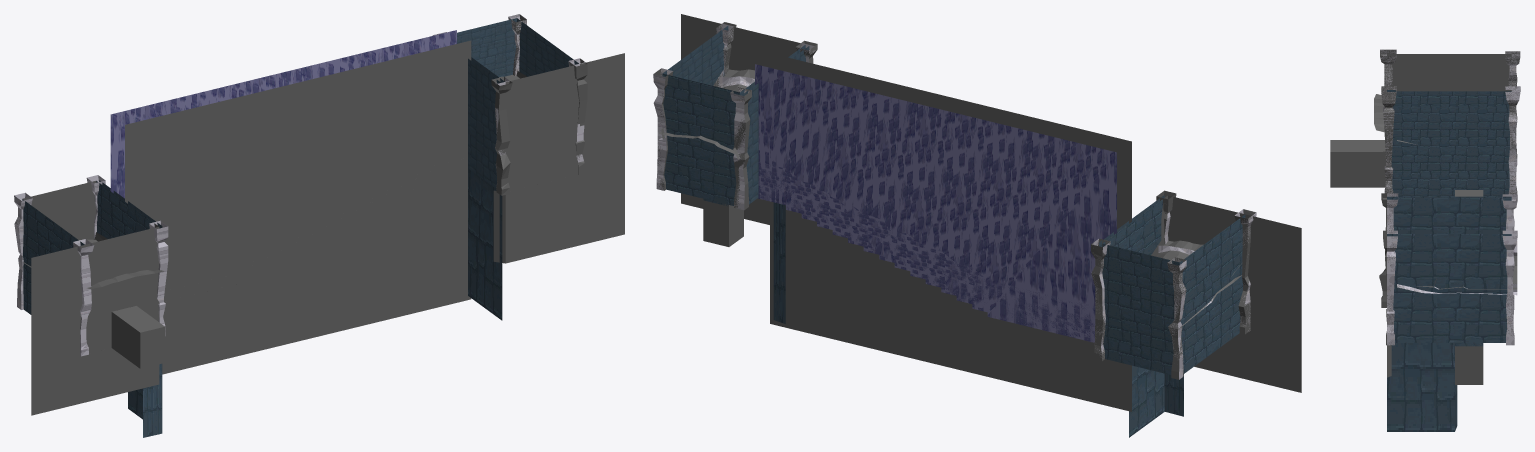
The model's file is jin_11_bake.dae.
The picture shows the model from 3 angles, left to right: view 1: azimuth 30°, elevation 25°; view 2: azimuth 150°, elevation 25°; view 3: azimuth 270°, elevation 25°; orthographic projection. The views are drawn at different scales.
Parts seen in each view (by area): view 1: a_gawa03, S_msk_s, S_kai_part0, S_msk_r, a_yuka, S_msk_l, a_gawa06_part1, polySurface883, a_gawa02, S_kabe_l, a_gawa06_part0, S_hasi_l (+4 smaller); view 2: a_gawa02, S_kai_part0, S_kabe_l, S_msk_l, pPlane9, S_kabe_r, a_gawa03, a_hashira, a_gawa06_part1, polySurface883, polySurface880, a_yuka (+7 smaller); view 3: S_kabe_r, polySurface880, a_yuka, polySurface883, S_hasi_r, a_hashira, S_hasi_l, a_gawa06_part1, a_hashira02, a_hari01, S_hari_r, a_hari02 (+1 smaller).
Part boxes in pixels (bbox=[...]): a_gawa03: bbox=[125, 40, 471, 301]; S_msk_s: bbox=[131, 63, 467, 291]; S_kai_part0: bbox=[162, 171, 471, 374]; S_msk_r: bbox=[493, 53, 624, 263]; a_yuka: bbox=[22, 180, 164, 368]; S_msk_l: bbox=[31, 245, 159, 415]; a_gawa06_part1: bbox=[505, 65, 579, 190]; polySurface883: bbox=[468, 58, 502, 320]; a_gawa02: bbox=[110, 30, 456, 198]; S_kabe_l: bbox=[22, 181, 154, 314]; a_gawa06_part0: bbox=[457, 18, 578, 82]; S_hasi_l: bbox=[14, 175, 168, 356]; a_gawa02: bbox=[755, 64, 1116, 341]; S_kai_part0: bbox=[770, 201, 1131, 411]; S_kabe_l: bbox=[1102, 199, 1245, 374]; S_msk_l: bbox=[1194, 214, 1301, 392]; pPlane9: bbox=[758, 162, 1095, 342]; S_kabe_r: bbox=[662, 73, 739, 205]; a_gawa03: bbox=[770, 53, 1131, 273]; a_hashira: bbox=[1091, 190, 1255, 379]; a_gawa06_part1: bbox=[703, 27, 800, 246]; polySurface883: bbox=[743, 46, 809, 323]; polySurface880: bbox=[1099, 195, 1183, 437]; a_yuka: bbox=[1161, 195, 1244, 245]; S_kabe_r: bbox=[1387, 198, 1511, 342]; polySurface880: bbox=[1387, 91, 1511, 196]; a_yuka: bbox=[1330, 54, 1511, 187]; polySurface883: bbox=[1387, 196, 1511, 431]; S_hasi_r: bbox=[1387, 193, 1517, 345]; a_hashira: bbox=[1380, 49, 1520, 194]; S_hasi_l: bbox=[1380, 50, 1520, 194]; a_gawa06_part1: bbox=[1455, 344, 1483, 384]; a_hashira02: bbox=[1379, 193, 1514, 345]; a_hari01: bbox=[1374, 94, 1415, 144]; S_hari_r: bbox=[1397, 241, 1517, 295]; a_hari02: bbox=[1397, 256, 1517, 292].
Bounding box in the file's own units: 120 × 54.9 × 33.57.
